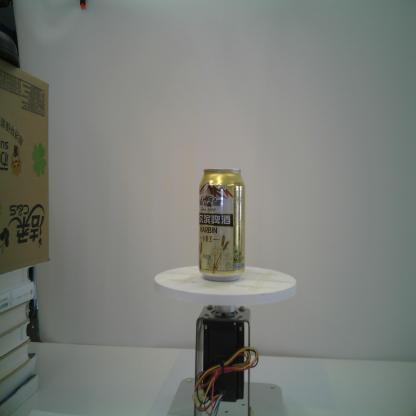Alcohol: (199, 168, 246, 282)
